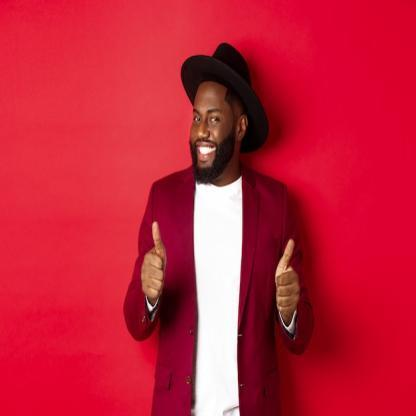thumb_up: (138, 218, 171, 304), (272, 235, 303, 321)
